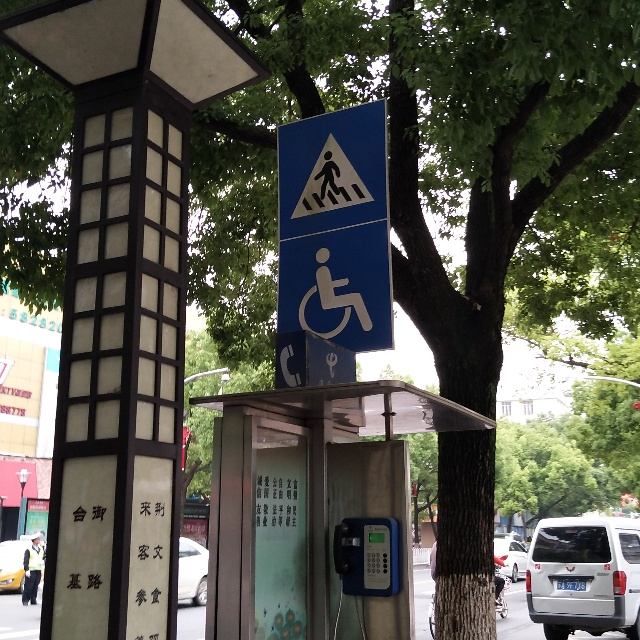crosswalk: (271, 104, 399, 236)
